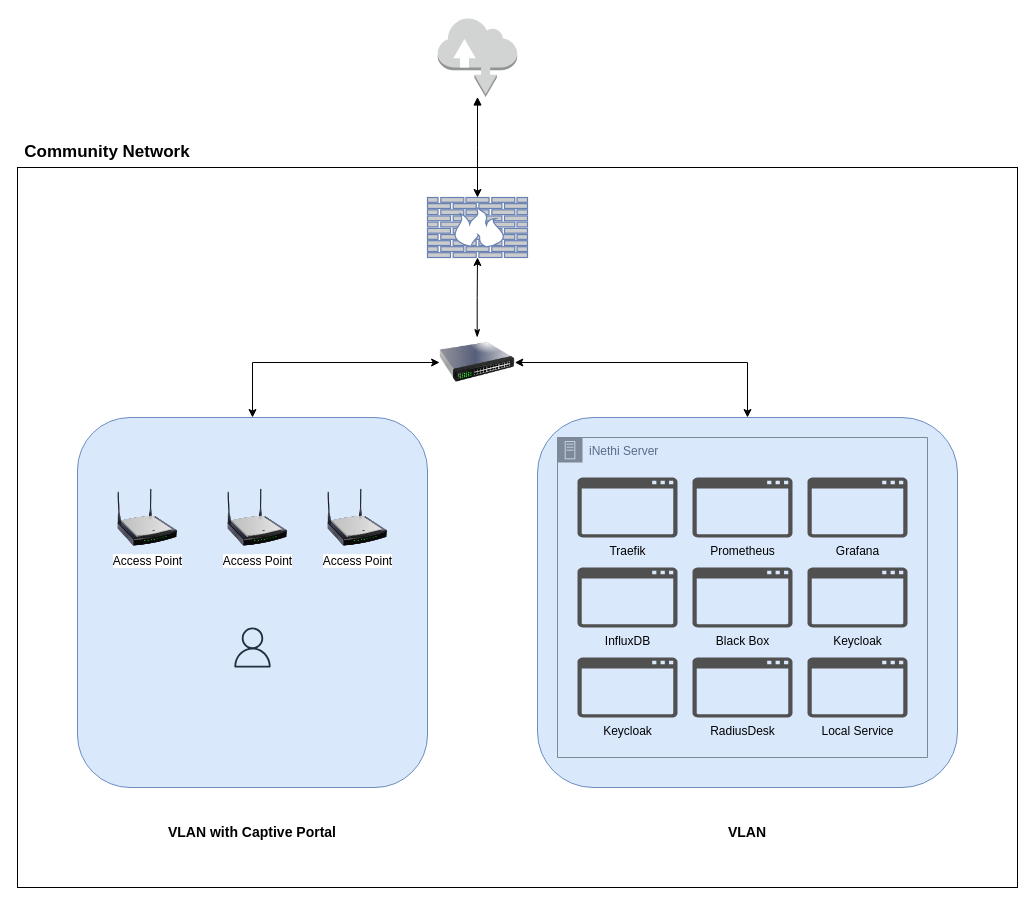
Image size: 1035x905. Some labels were removed from this diagram. The centre of each missing label's shape, as x and y in pixels:
Managed Switch: pixel 476 362
User 1: pixel 252 647
